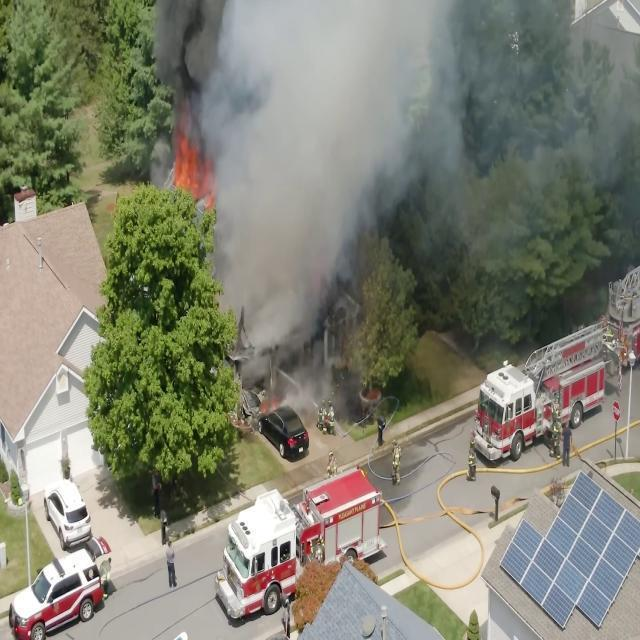Fire: (170, 108, 218, 194)
Smoke: (225, 43, 342, 304), (169, 0, 219, 100)
